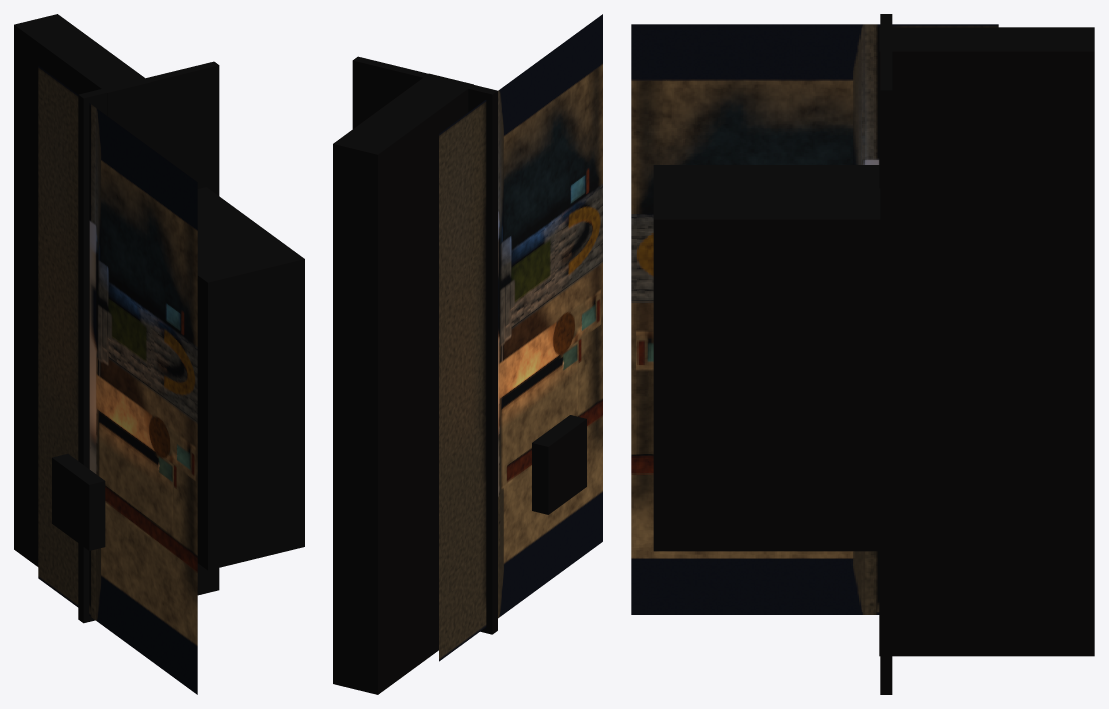
File: environment.obj
The picture shows the model from 3 angles, left to right: view 1: azimuth 30°, elevation 25°; view 2: azimuth 150°, elevation 25°; view 3: azimuth 270°, elevation 25°; orthographic projection. The views are drawn at different scales.
Visible parts, largest first — view 1: Environment; view 2: Environment; view 3: Environment.
Part boxes in pixels (x1,y1,x2,y2): Environment: (14, 14, 304, 694); Environment: (333, 14, 602, 694); Environment: (631, 14, 1094, 694).
Size of the model in its own units: 5.45 by 15.5 by 10.77.
Materials: 1 (1 with a texture image).
